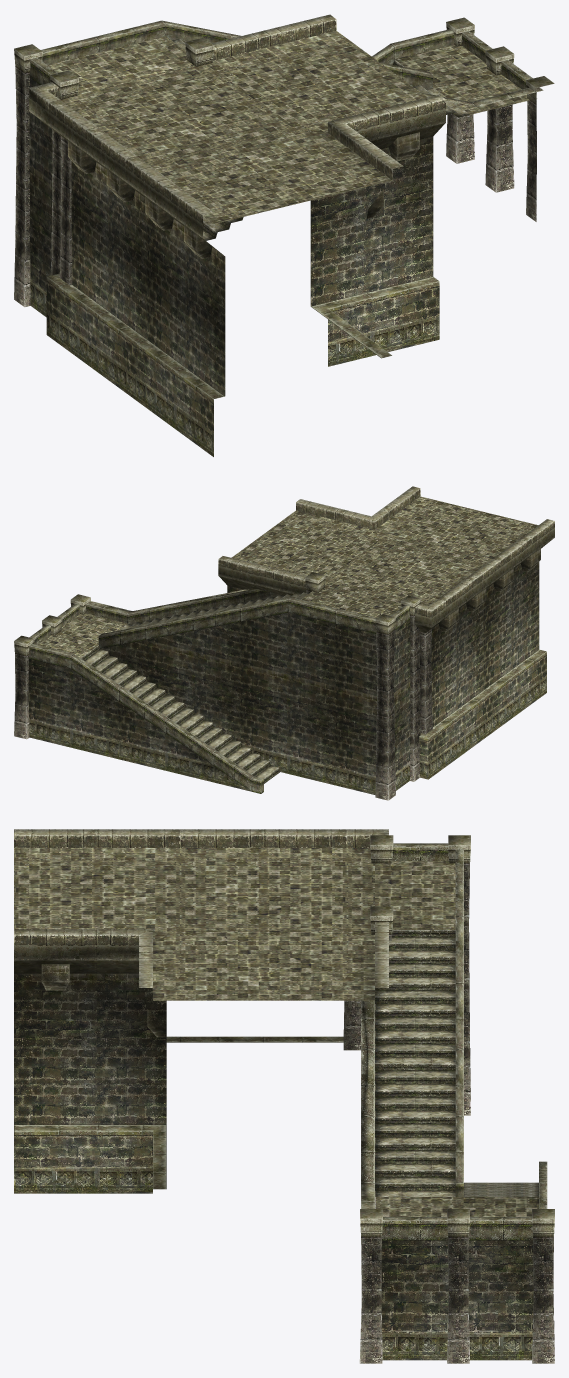
File: OZ_30_kn_castle01K.glb
3 renders of one model, top to bottom at view 1: azimuth 30°, elevation 25°; view 2: azimuth 150°, elevation 25°; view 3: azimuth 270°, elevation 25°, orthographic. The views are drawn at different scales.
Parts seen in each view (by area): view 1: OM_30_kn_castle01K; view 2: OM_30_kn_castle01K; view 3: OM_30_kn_castle01K.
Boxes of the visible parts, x1,y1,x2,y2 form: OM_30_kn_castle01K: [14, 14, 554, 456]; OM_30_kn_castle01K: [14, 486, 554, 800]; OM_30_kn_castle01K: [14, 829, 554, 1363].
Size of the model in its own units: 22.97 by 10.75 by 19.47.
Materials: 2 (2 with a texture image).
